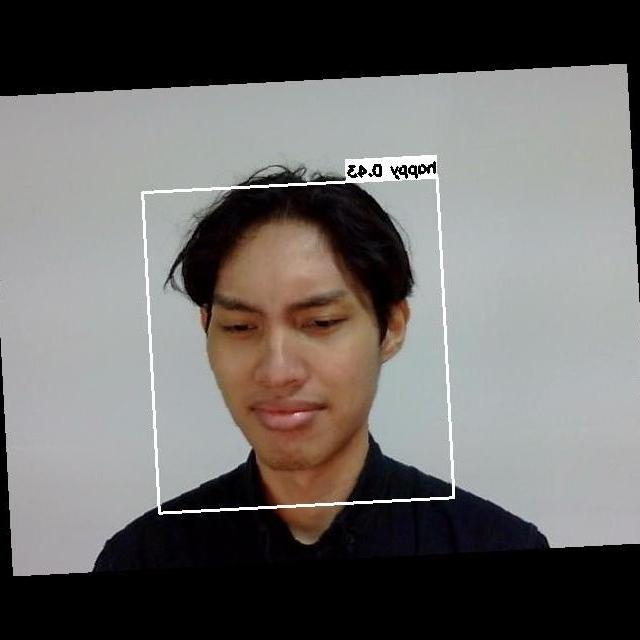Disgust: (195, 261, 389, 447)
